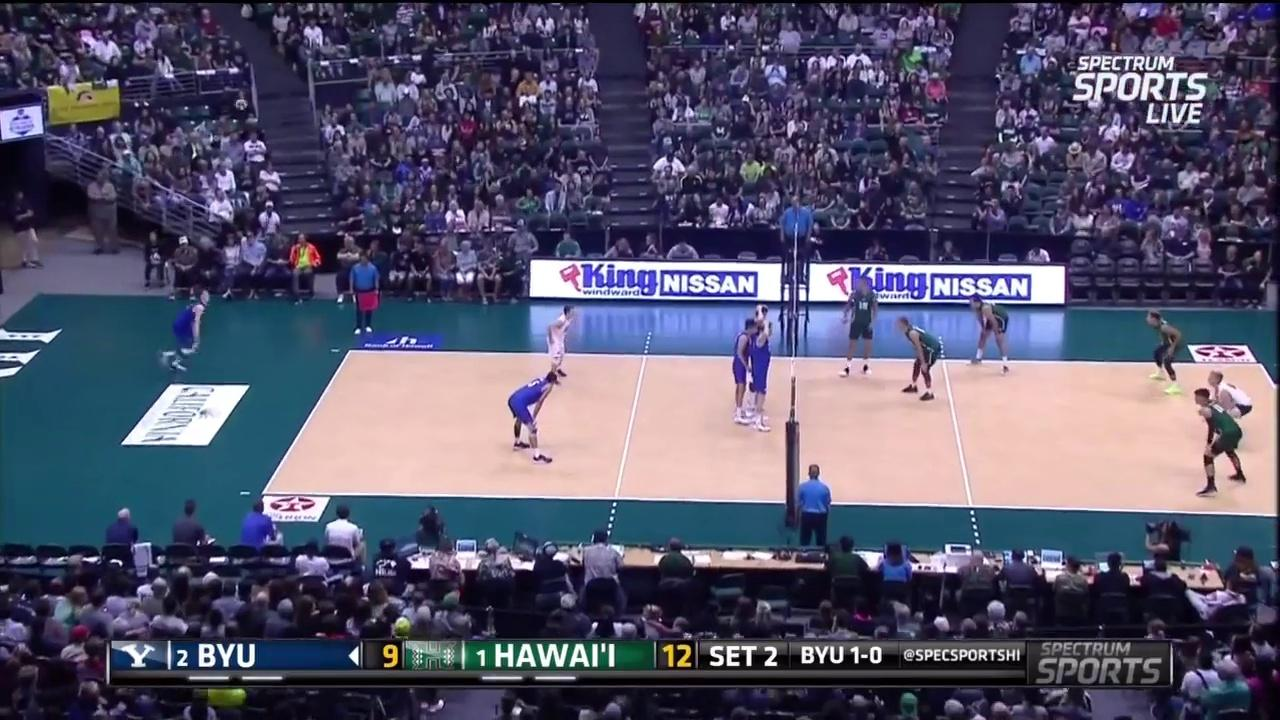player: (1194, 386, 1247, 494), (505, 372, 565, 461), (159, 288, 212, 373), (843, 277, 878, 385), (1203, 366, 1256, 436), (898, 319, 943, 399), (1148, 312, 1190, 395), (544, 296, 577, 396), (746, 299, 771, 417), (973, 293, 1010, 369), (729, 314, 753, 430), (753, 325, 777, 433)
refree: (347, 248, 380, 338), (797, 461, 831, 546), (780, 194, 812, 276)
